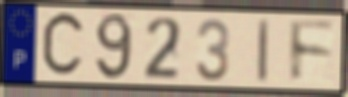2: (142, 16, 184, 81)
3: (194, 17, 231, 83)
9: (92, 12, 135, 82)
C: (39, 8, 87, 82)
F: (287, 18, 338, 86)
I: (256, 17, 271, 85)
